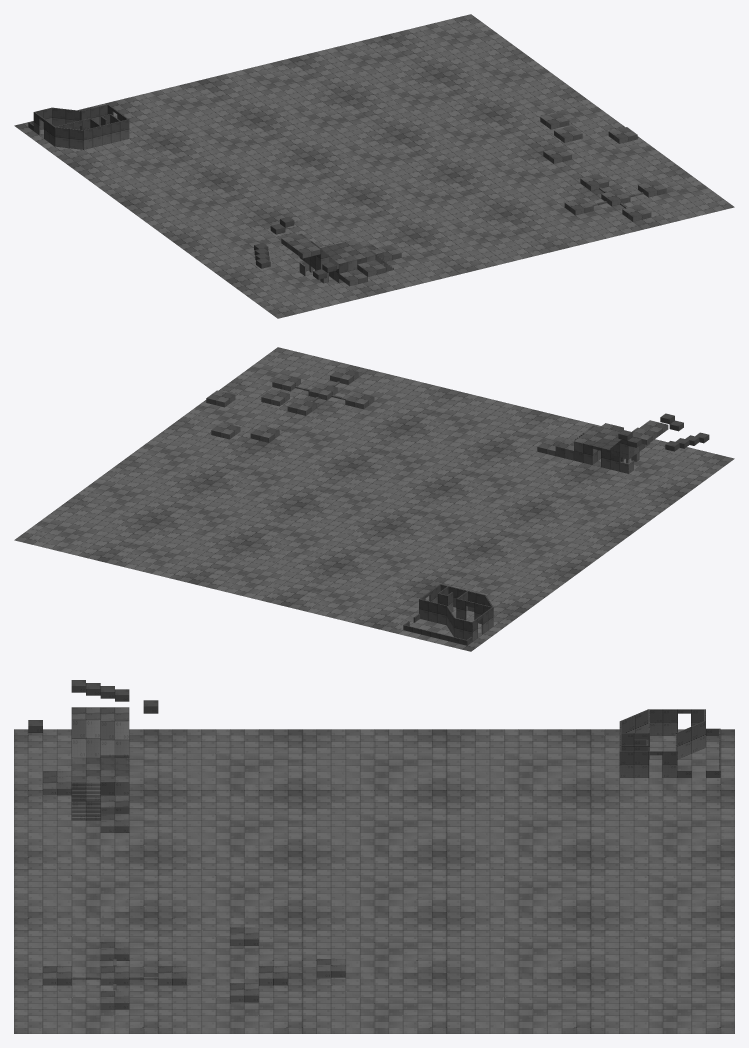
File: Test_Enviroment.fbx
The picture shows the model from 3 angles, top to bottom: view 1: azimuth 30°, elevation 25°; view 2: azimuth 150°, elevation 25°; view 3: azimuth 270°, elevation 25°; orthographic projection. The views are drawn at different scales.
Parts seen in each view (by area): view 1: Floor_Plane.007, Floor_Plane.008, Floor_Plane.021, Floor_Plane.002, Floor_Plane.005, Floor_Plane.001, Floor_Plane.003, Floor_Plane.006, Floor_Plane.010, Floor_Plane.013, Floor_Plane.015, Floor_Plane.016 (+13 smaller); view 2: Floor_Plane.003, Floor_Plane.004, Floor_Plane.002, Floor_Plane.005, Floor_Plane.001, Floor_Plane.006, Floor_Plane.007, Floor_Plane.010, Floor_Plane.012, Floor_Plane.013, Floor_Plane.015, Floor_Plane.021 (+14 smaller); view 3: Floor_Plane.013, Floor_Plane.012, Floor_Plane.018, Floor_Plane, Floor_Plane.001, Floor_Plane.003, Floor_Plane.004, Floor_Plane.005, Floor_Plane.006, Floor_Plane.008, Floor_Plane.010, Floor_Plane.015 (+23 smaller).
Boxes of the visible parts, x1,y1,x2,y2 form: Floor_Plane.007: (447,152,590,213); Floor_Plane.008: (158,119,301,180); Floor_Plane.021: (433,53,576,113); Floor_Plane.002: (394,114,537,174); Floor_Plane.005: (211,158,354,218); Floor_Plane.001: (250,97,393,158); Floor_Plane.003: (341,75,484,135); Floor_Plane.006: (355,174,498,235); Floor_Plane.010: (408,213,551,273); Floor_Plane.013: (120,180,263,241); Floor_Plane.015: (197,59,340,119); Floor_Plane.016: (288,36,431,97); Floor_Plane.003: (158,485,301,546); Floor_Plane.004: (447,452,590,513); Floor_Plane.002: (211,447,354,507); Floor_Plane.005: (394,491,537,551); Floor_Plane.001: (250,507,393,568); Floor_Plane.006: (355,430,498,491); Floor_Plane.007: (264,408,407,468); Floor_Plane.010: (408,392,551,452); Floor_Plane.012: (538,475,681,535); Floor_Plane.013: (485,513,628,574); Floor_Plane.015: (197,546,340,606); Floor_Plane.021: (67,463,210,523); Floor_Plane.013: (302,729,446,790); Floor_Plane.012: (158,729,302,790); Floor_Plane.018: (446,729,590,790); Floor_Plane: (302,851,446,911); Floor_Plane.001: (446,851,590,911); Floor_Plane.003: (446,912,590,972); Floor_Plane.004: (158,790,302,850); Floor_Plane.005: (302,790,446,850); Floor_Plane.006: (158,851,302,911); Floor_Plane.008: (446,790,590,850); Floor_Plane.010: (14,851,158,911); Floor_Plane.015: (590,851,734,911).
Bounding box in the file's own units: 5000 × 512 × 5000.
